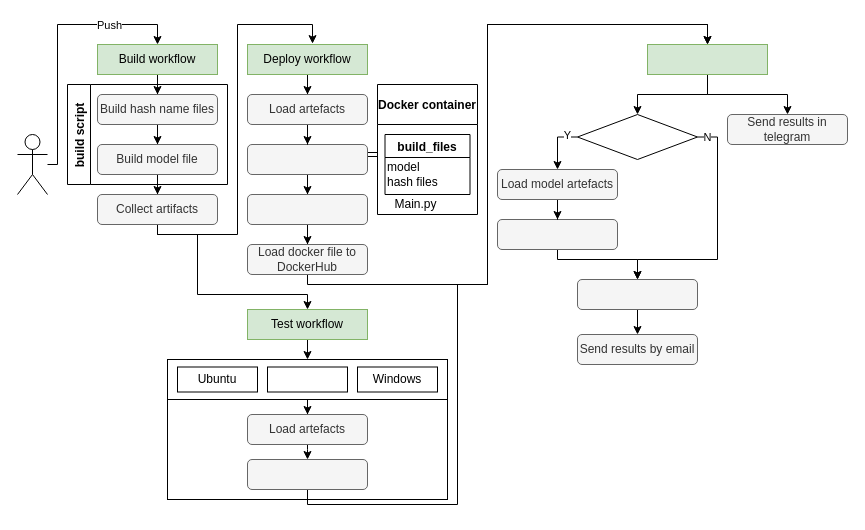
This 865x530 diagram has some shape labels left out. The shapes that lost their labels are listed below. From the top down, each one's box as (x1, y1, x2, y2) in pixels, then its label:
(646, 44, 768, 74): Output workflow
(576, 114, 698, 160): Build is green?
(16, 134, 48, 194): Actor
(246, 144, 368, 174): Pack artefacts with model file
(246, 194, 368, 224): Collect docker file
(496, 218, 618, 250): Get metrics
(576, 278, 698, 310): Get message
(266, 366, 348, 392): MacOS
(246, 458, 368, 490): Perf test
